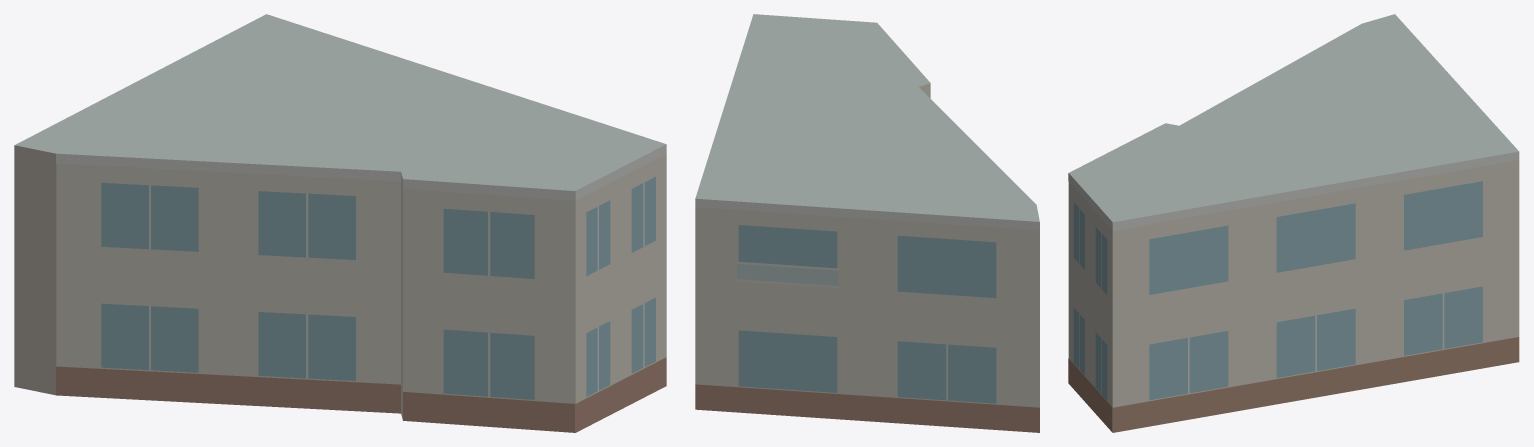
Rendered from survey-upis-32698480.glb.
The picture shows the model from 3 angles, left to right: view 1: azimuth 30°, elevation 25°; view 2: azimuth 150°, elevation 25°; view 3: azimuth 270°, elevation 25°; orthographic projection. The views are drawn at different scales.
Visible parts, largest first — view 1: survey-upis-32698480.tmp; view 2: survey-upis-32698480.tmp; view 3: survey-upis-32698480.tmp.
Boxes of the visible parts, bbox=[...] form: survey-upis-32698480.tmp: bbox=[14, 14, 666, 432]; survey-upis-32698480.tmp: bbox=[695, 14, 1039, 432]; survey-upis-32698480.tmp: bbox=[1068, 14, 1519, 432].
Size of the model in its own units: 12.95 by 6.1 by 11.84.
